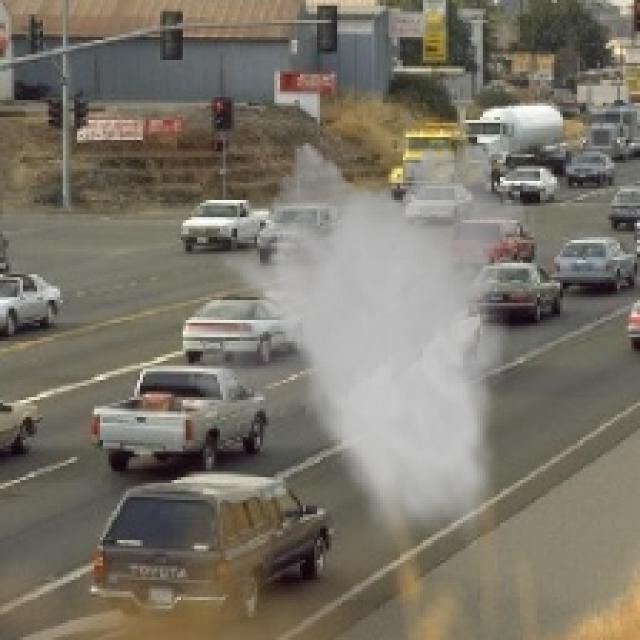Smoke: (185, 132, 538, 552)
